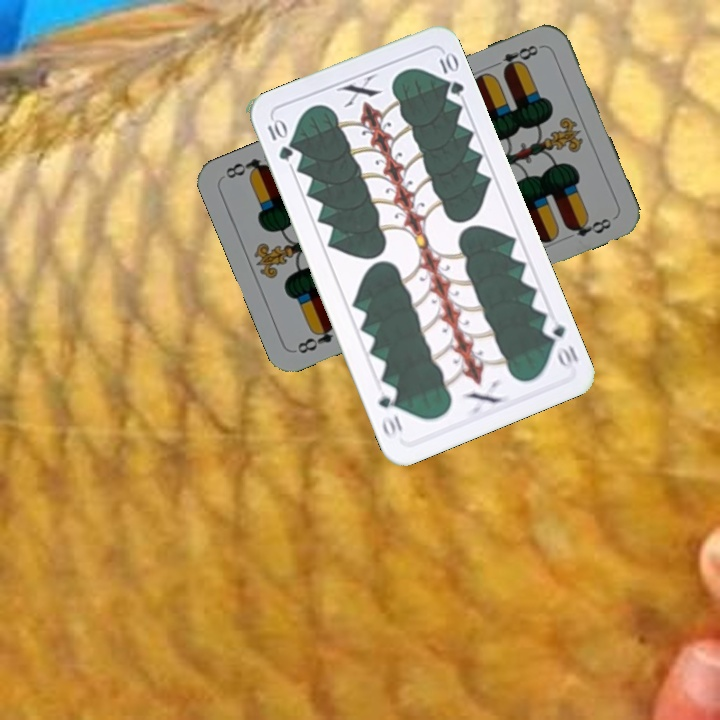E8: (488, 41, 545, 76), (293, 318, 338, 356)
G10: (538, 313, 581, 372), (263, 115, 296, 163)
